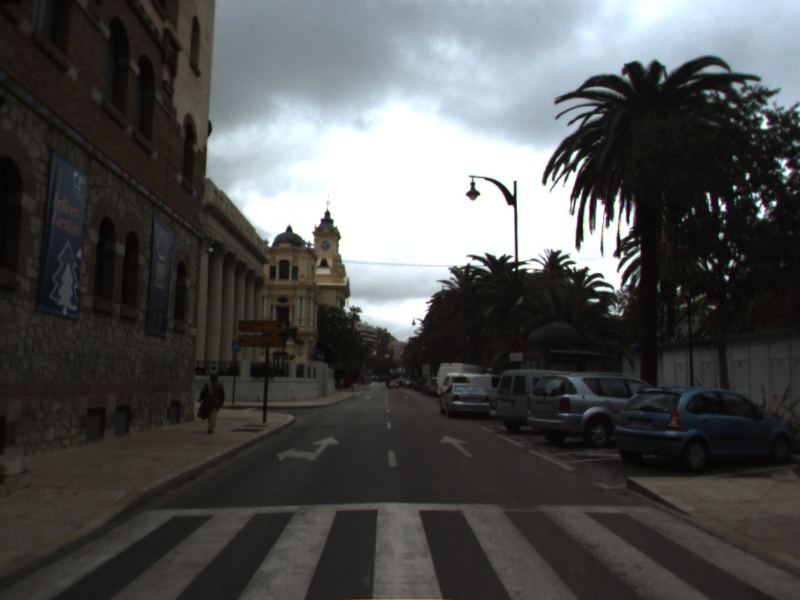STRAIGHT: (438, 433, 476, 459)
STRAIGHT_LEFT: (275, 434, 342, 463)
